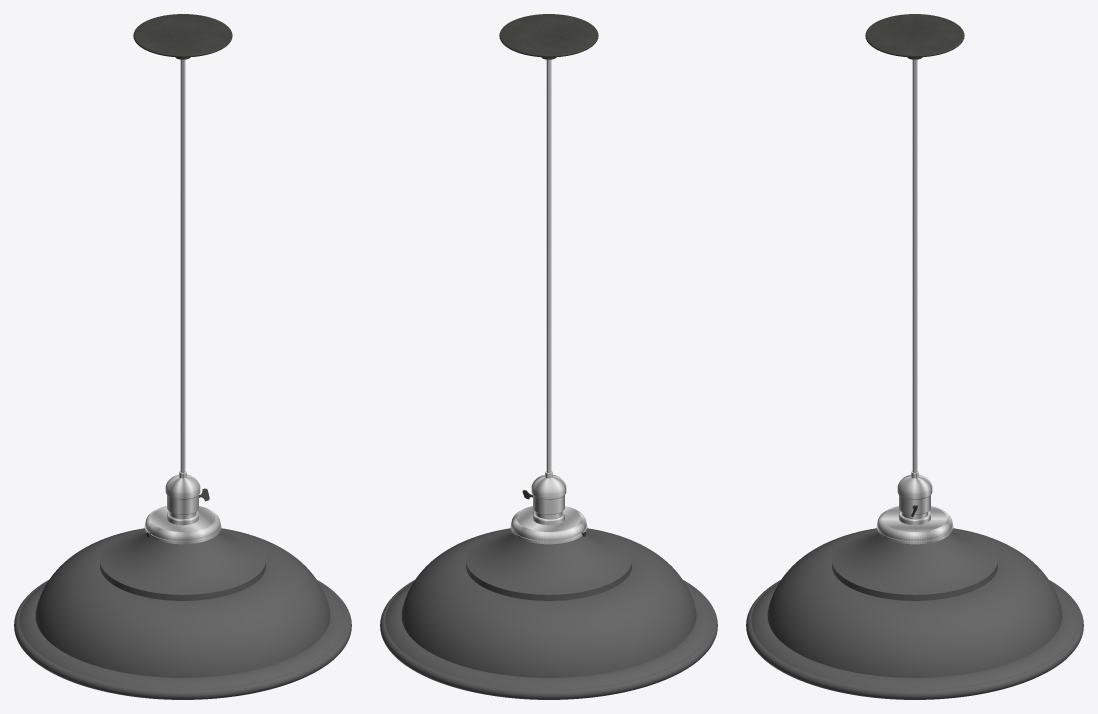
File: pendant_light.glb
3 renders of one model, left to right at view 1: azimuth 30°, elevation 25°; view 2: azimuth 150°, elevation 25°; view 3: azimuth 270°, elevation 25°, orthographic.
Parts seen in each view (by area): view 1: Geom3D (×2), Geom3D_; view 2: Geom3D (×2), Geom3D_; view 3: Geom3D (×2), Geom3D_.
Part boxes in pixels (bbox=[...]): Geom3D (×2): bbox=[14, 59, 351, 699]; Geom3D_: bbox=[133, 14, 232, 59]; Geom3D (×2): bbox=[380, 59, 717, 699]; Geom3D_: bbox=[499, 14, 598, 59]; Geom3D (×2): bbox=[746, 59, 1083, 699]; Geom3D_: bbox=[865, 14, 964, 59].
Bounding box in the file's own units: 0.4001 × 0.7784 × 0.4001.
Materials: 5 (2 with a texture image).
